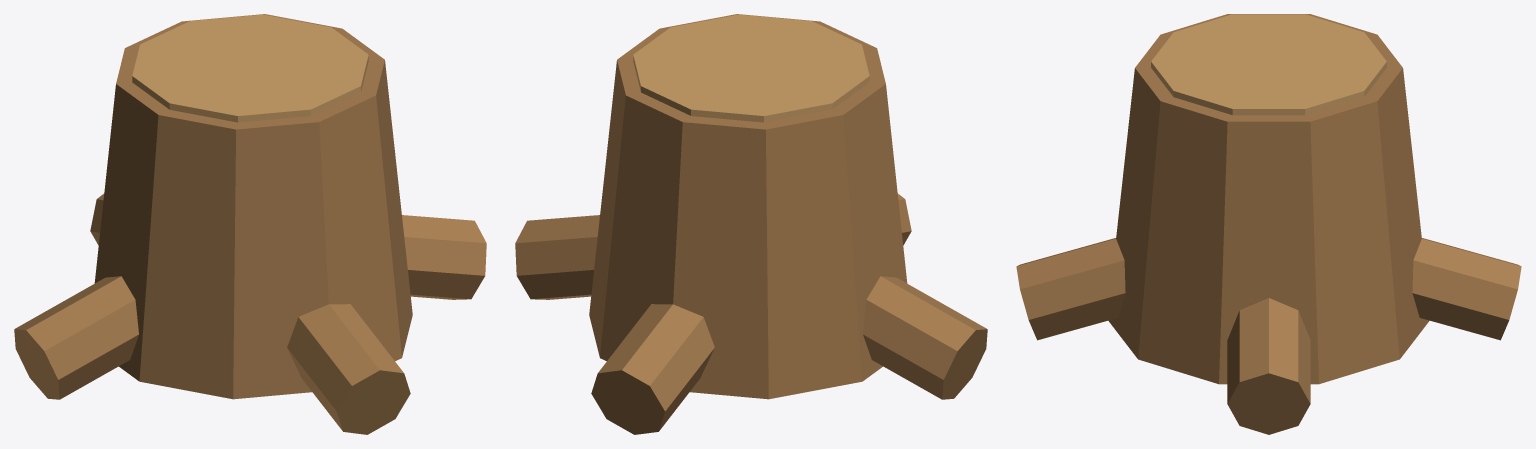
The model's file is foliage_stump.glb.
3 renders of one model, left to right at view 1: azimuth 30°, elevation 25°; view 2: azimuth 150°, elevation 25°; view 3: azimuth 270°, elevation 25°, orthographic. The views are drawn at different scales.
Parts seen in each view (by area): view 1: foliage_stump; view 2: foliage_stump; view 3: foliage_stump.
Part boxes in pixels (box(x1,y1,x2,y2)): foliage_stump: box(14, 14, 486, 434); foliage_stump: box(515, 14, 987, 434); foliage_stump: box(1016, 14, 1521, 434).
Size of the model in its own units: 1.09 by 0.661 by 1.09.
